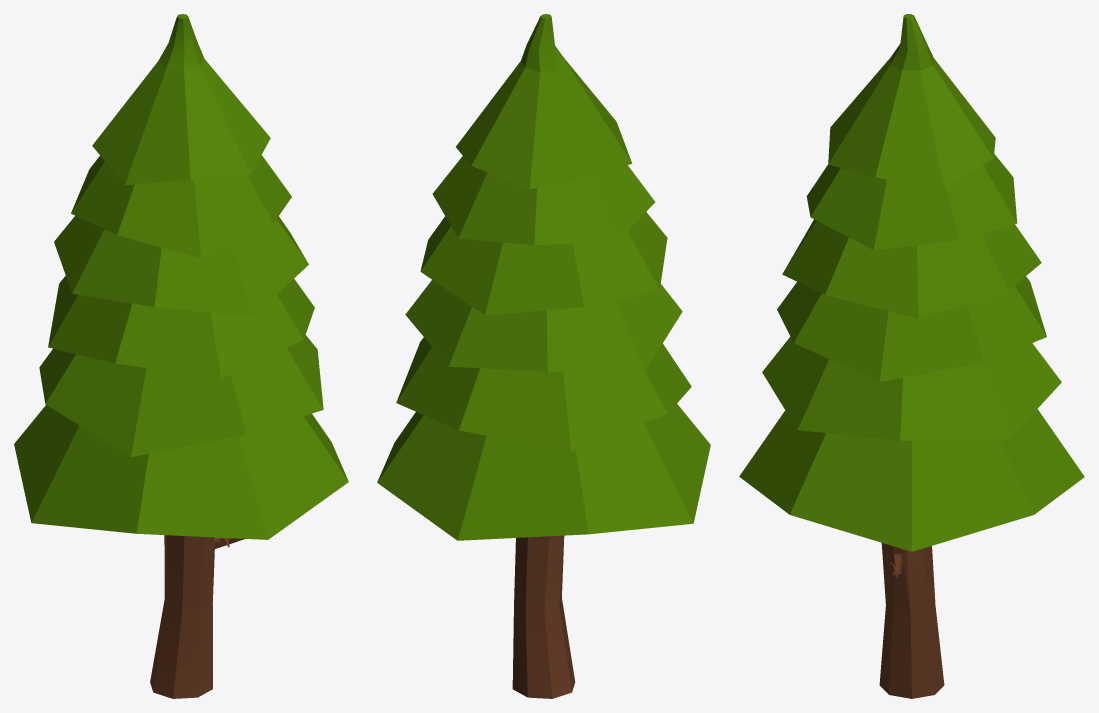
Rendered from pine tree.fbx.
3 views of the same model, side by side, from view 1: azimuth 30°, elevation 25°; view 2: azimuth 150°, elevation 25°; view 3: azimuth 270°, elevation 25° (orthographic).
Visible parts, largest first — view 1: pine_tree; view 2: pine_tree; view 3: pine_tree.
Boxes of the visible parts, x1,y1,x2,y2 form: pine_tree: (14, 14, 348, 698); pine_tree: (377, 14, 710, 698); pine_tree: (739, 14, 1084, 698).
Size of the model in its own units: 309 by 659 by 309.
